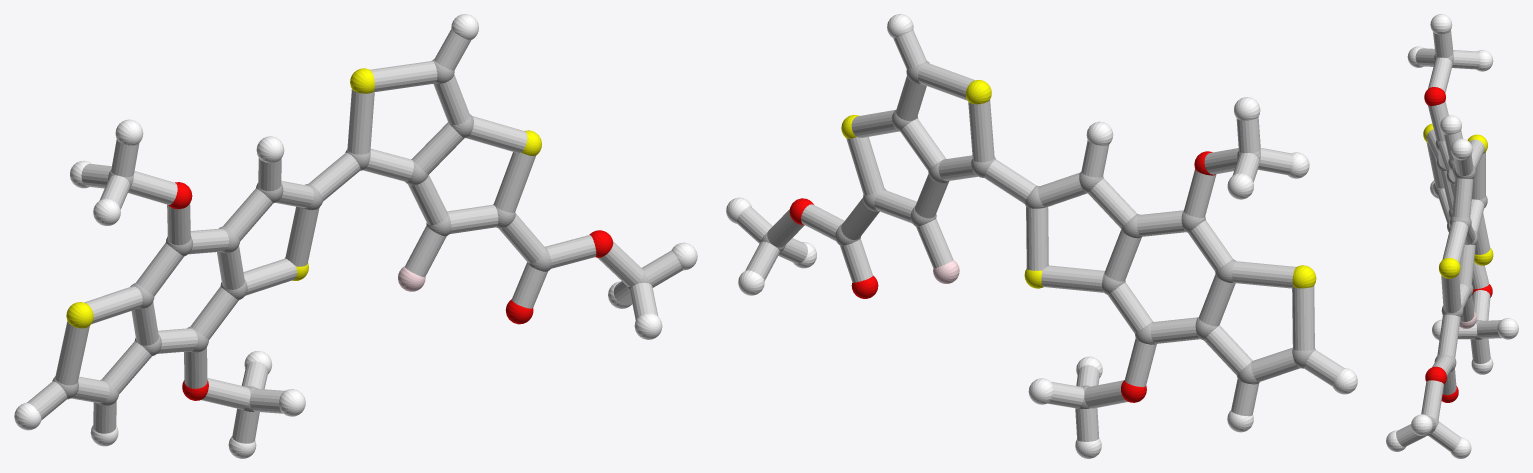
File: color.glb
3 renders of one model, left to right at view 1: azimuth 30°, elevation 25°; view 2: azimuth 150°, elevation 25°; view 3: azimuth 270°, elevation 25°, orthographic. The views are drawn at different scales.
Parts seen in each view (by area): view 1: grp15205, grp8689, grp1, grp7241, grp13395; view 2: grp15205, grp8689, grp1, grp7241, grp13395; view 3: grp15205, grp8689, grp1, grp13395, grp7241.
Part boxes in pixels (left/top/right/bottom): grp15205: left=27, top=29, right=682, bottom=443; grp8689: left=14, top=14, right=697, bottom=458; grp1: left=52, top=59, right=650, bottom=411; grp7241: left=66, top=68, right=541, bottom=328; grp13395: left=168, top=182, right=613, bottom=400; grp15205: left=736, top=30, right=1343, bottom=441; grp8689: left=726, top=14, right=1357, bottom=458; grp1: left=760, top=61, right=1315, bottom=408; grp7241: left=841, top=80, right=1316, bottom=288; grp13395: left=789, top=151, right=1215, bottom=402; grp15205: left=1396, top=30, right=1501, bottom=451; grp8689: left=1386, top=14, right=1518, bottom=458; grp1: left=1426, top=53, right=1487, bottom=435; grp13395: left=1424, top=87, right=1492, bottom=402; grp7241: left=1423, top=123, right=1493, bottom=278.
Size of the model in its own units: 16.65 by 9.56 by 3.66.
